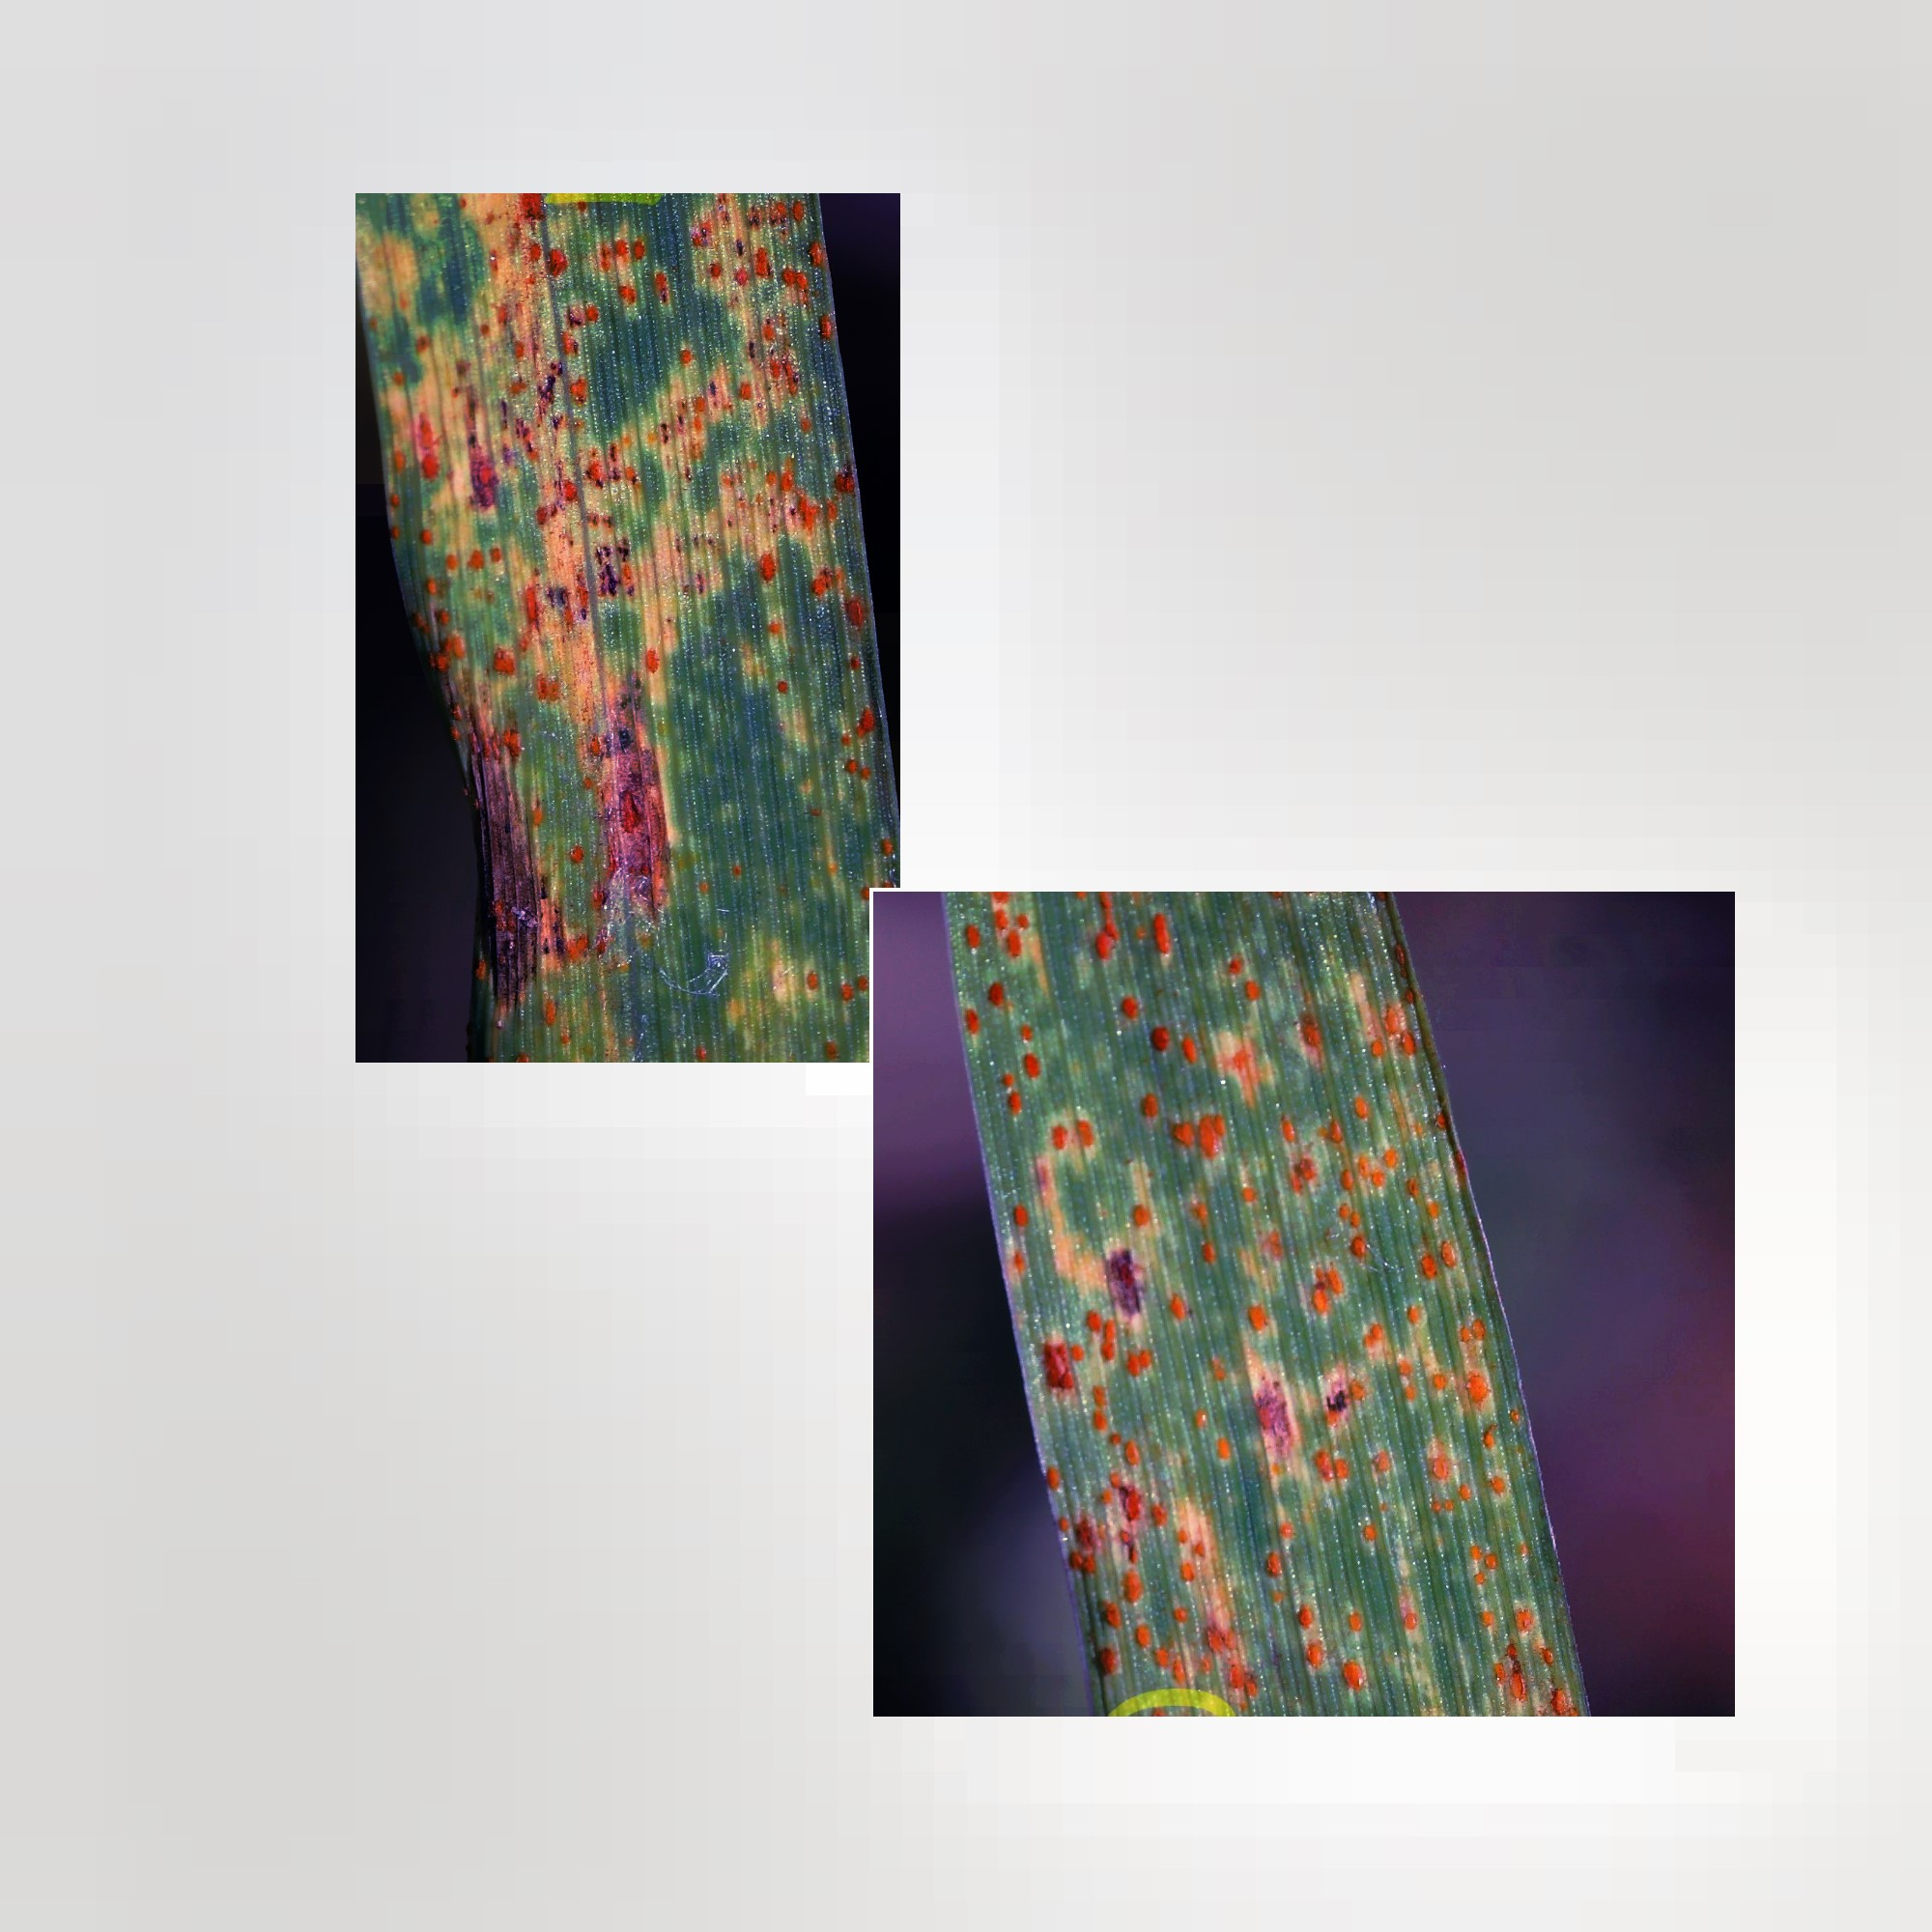Leaf Rust: (959, 936, 1601, 1718), (395, 244, 860, 1037)
